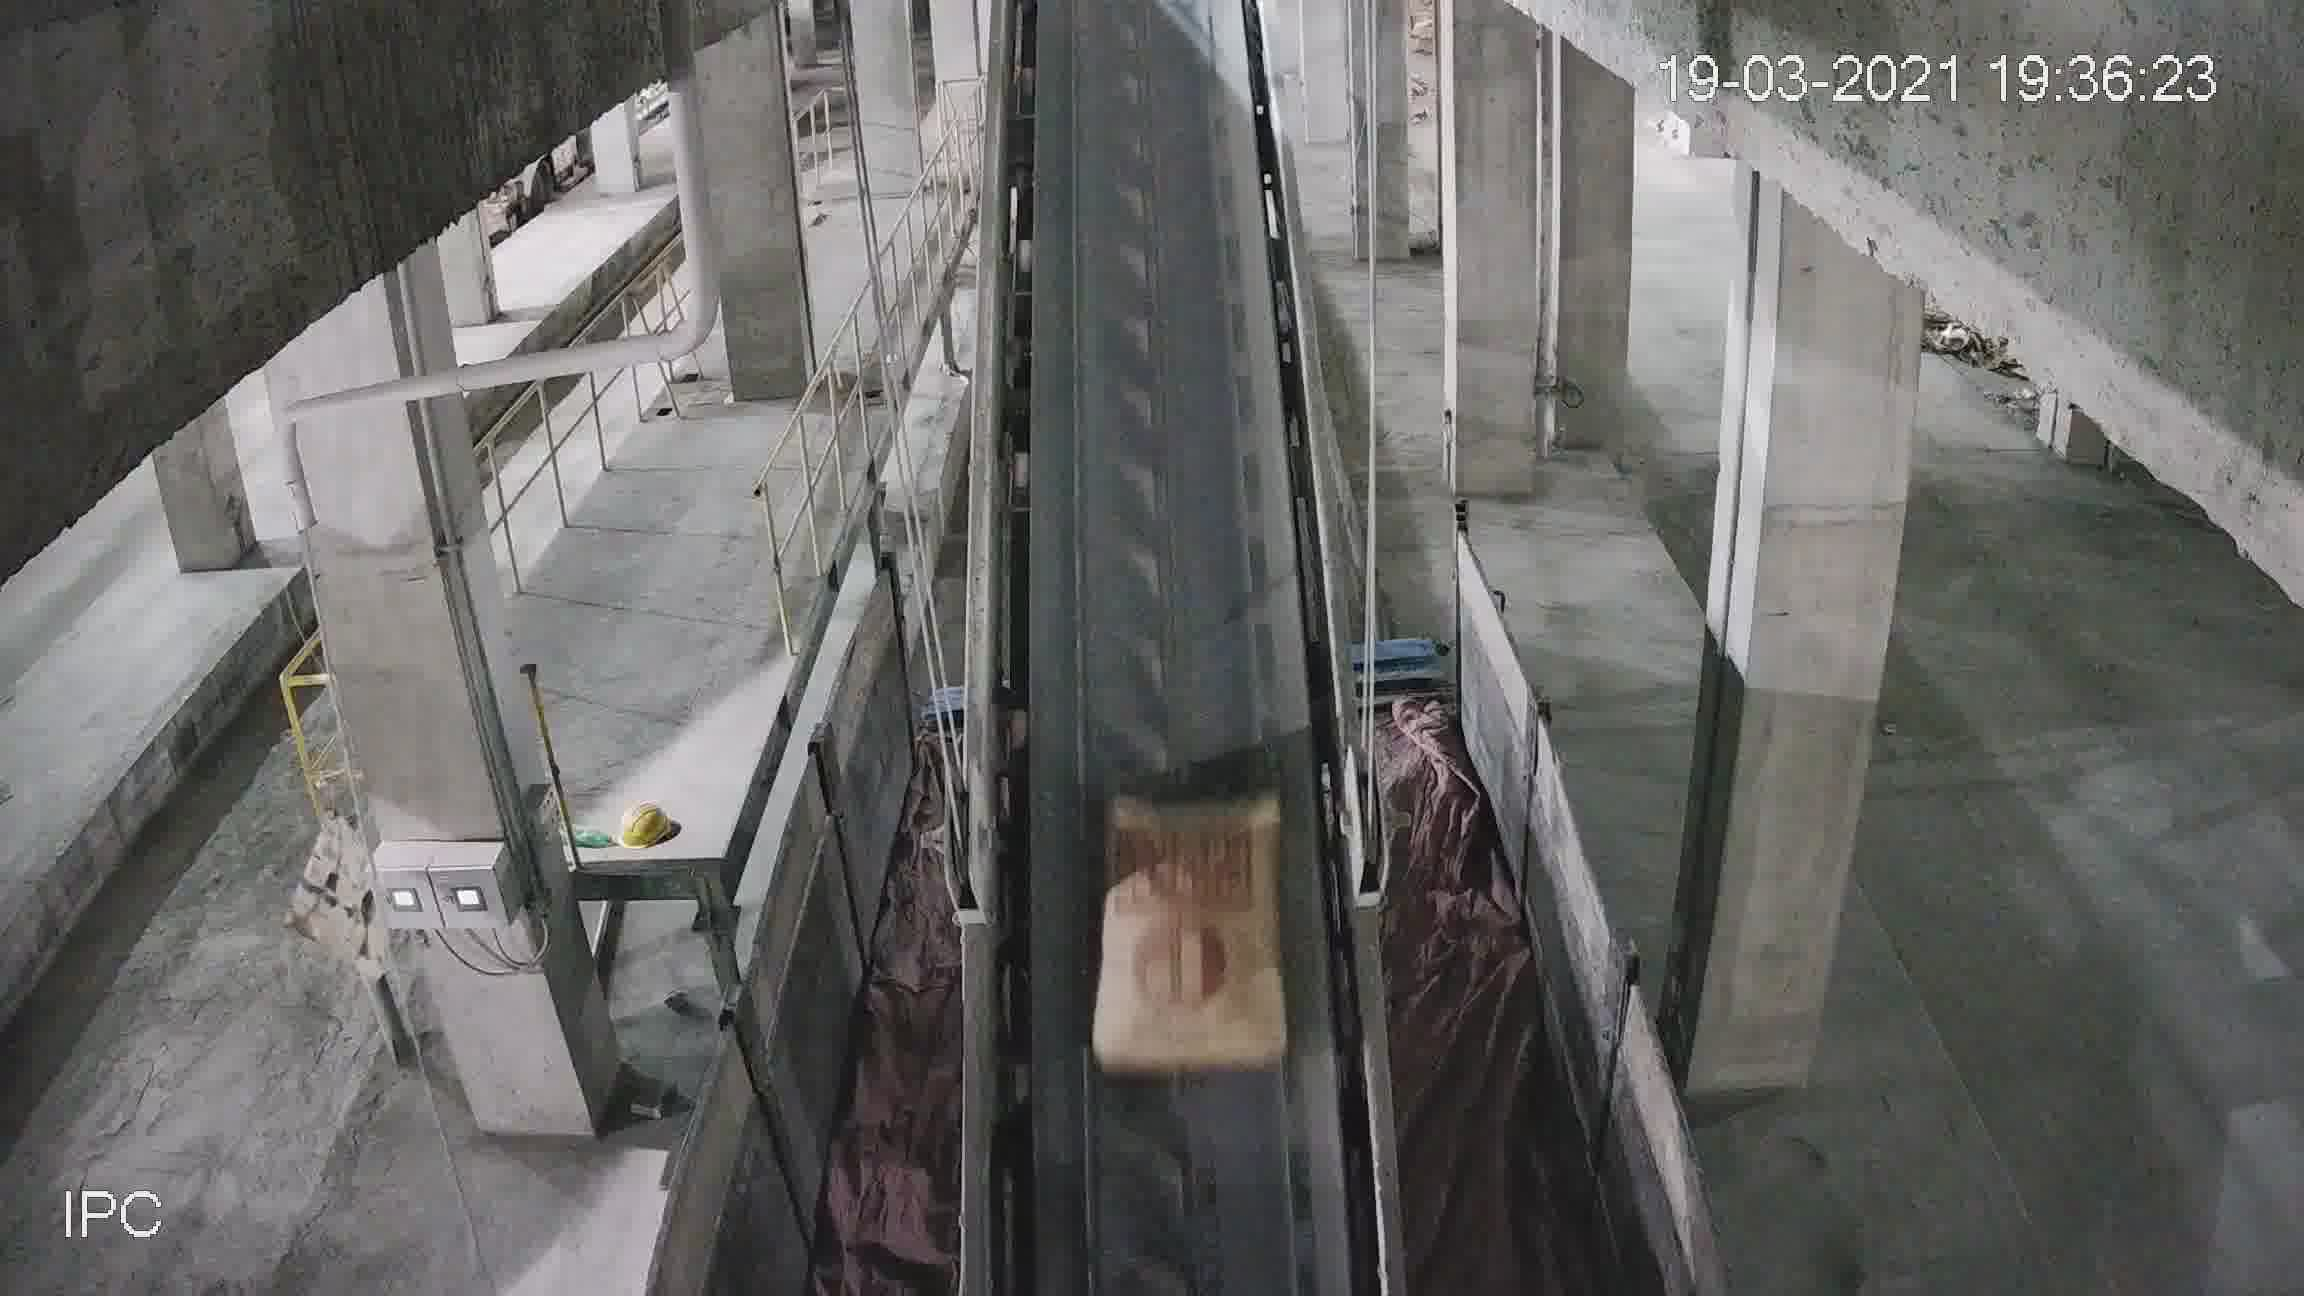bag: (1095, 785, 1283, 1074)
belt: (964, 14, 1388, 1161)
